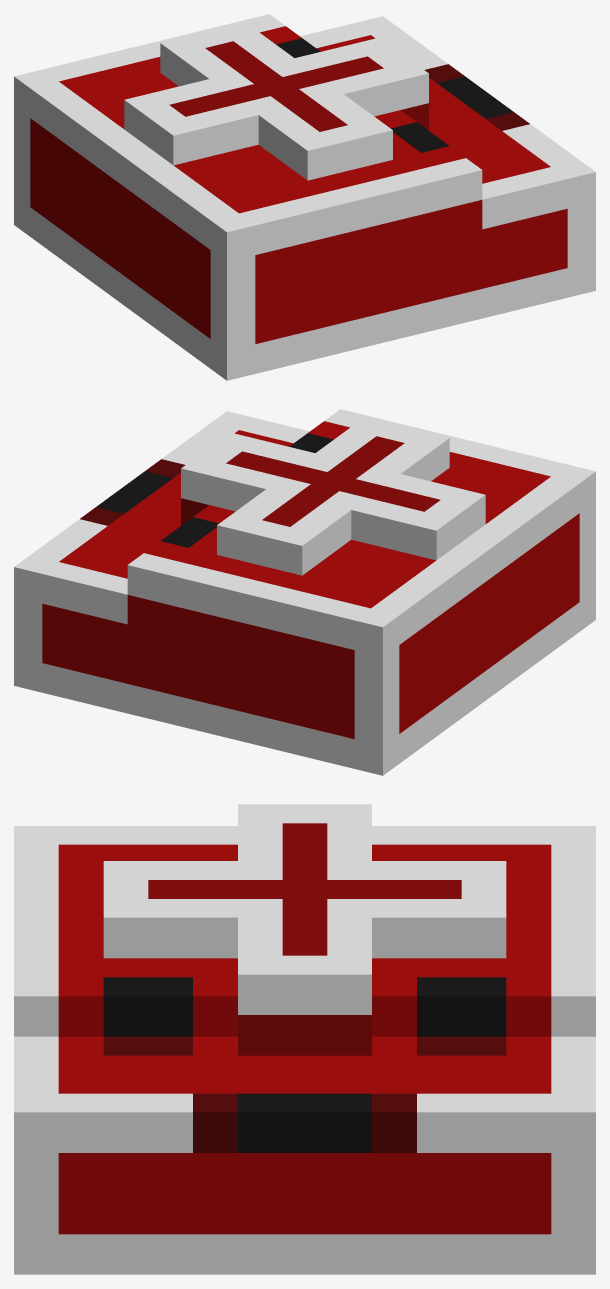
The model's file is health.obj.
3 views of the same model, one above another, from view 1: azimuth 30°, elevation 25°; view 2: azimuth 150°, elevation 25°; view 3: azimuth 270°, elevation 25° (orthographic). The views are drawn at different scales.
Bounding box in the file's own units: 13 × 6 × 13.
Materials: 1 (1 with a texture image).
